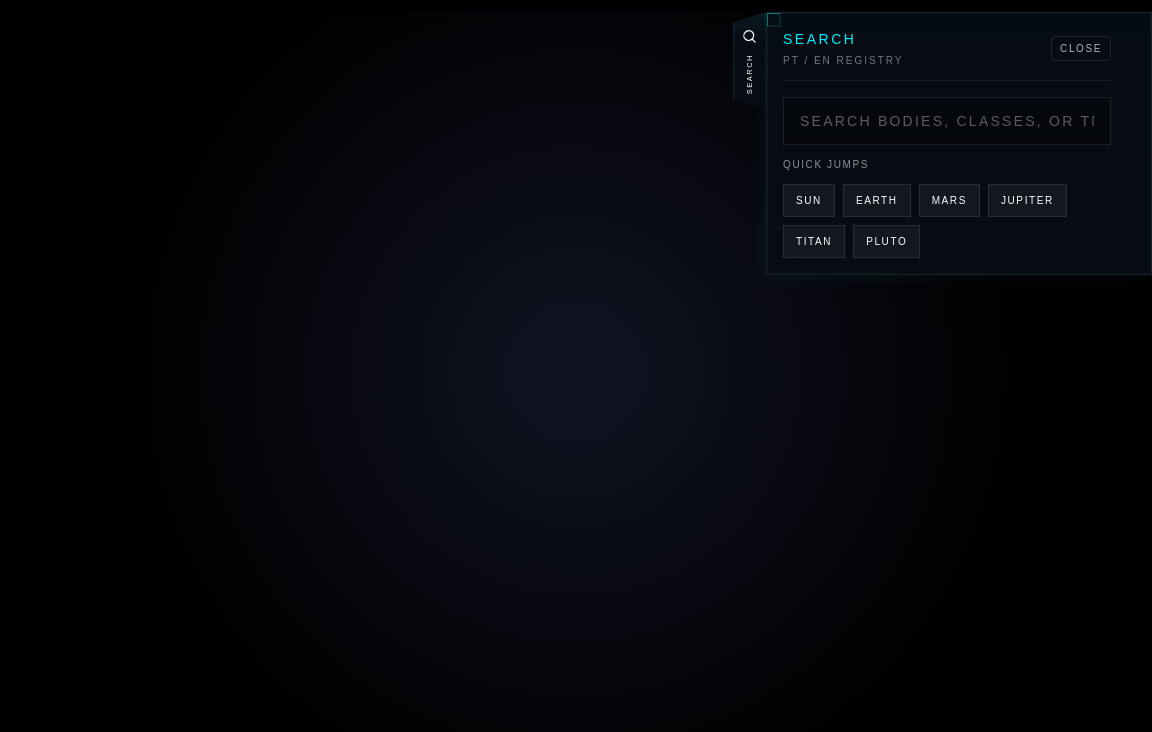
it: SearchBar › surfaces a Mars result when the query is 'mars'
The width and height of the screenshot is (1152, 732).
In the dropdown: (947, 121) 783,97 -> 1111,145, type "mars"
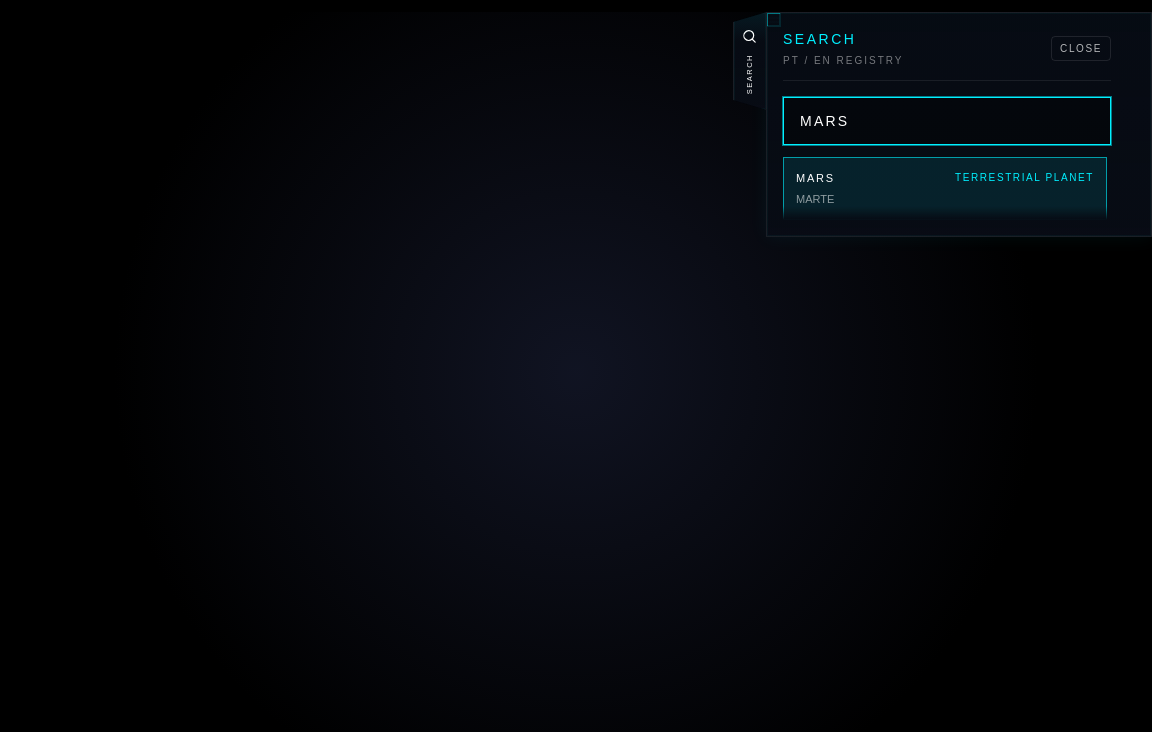
Check: the option "MARS MARTE Terrestrial Planet" is shown, box 783,157 -> 1107,220
